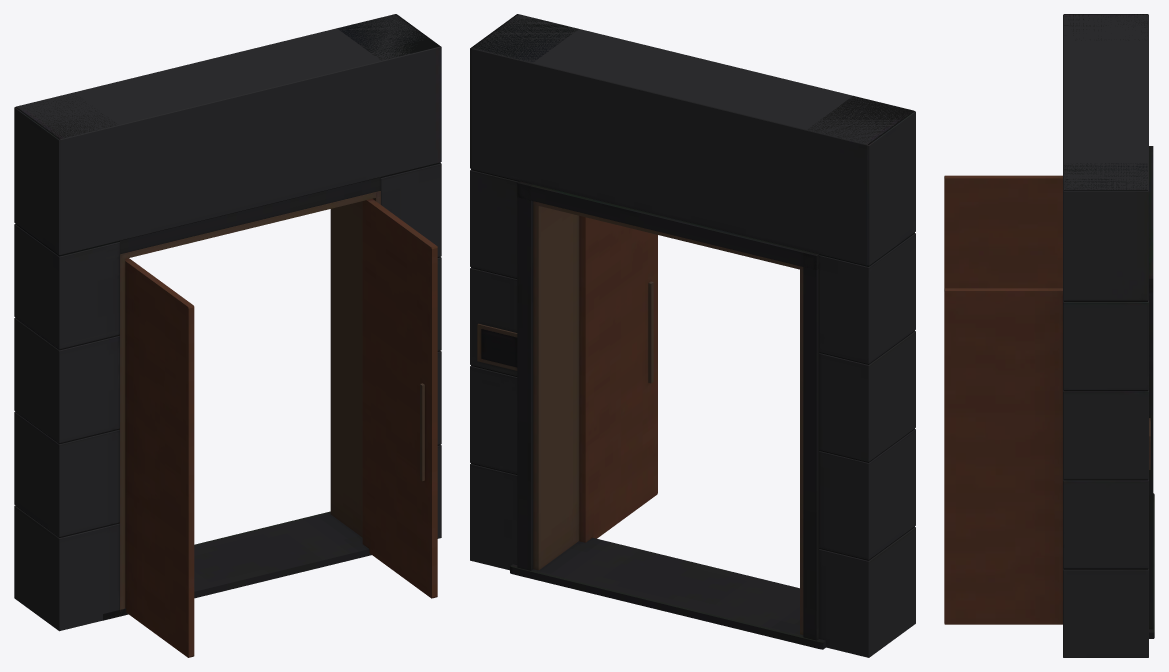
The model's file is atrium_door.glb.
3 renders of one model, left to right at view 1: azimuth 30°, elevation 25°; view 2: azimuth 150°, elevation 25°; view 3: azimuth 270°, elevation 25°, orthographic. The views are drawn at different scales.
Parts seen in each view (by area): view 1: atrium_door; view 2: atrium_door; view 3: atrium_door.
Boxes of the visible parts, x1,y1,x2,y2 form: atrium_door: (14,14,441,657); atrium_door: (470,14,915,657); atrium_door: (944,14,1154,657).
Bounding box in the file's own units: 2.93 × 3.6 × 1.47.
Materials: 1 (1 with a texture image).
